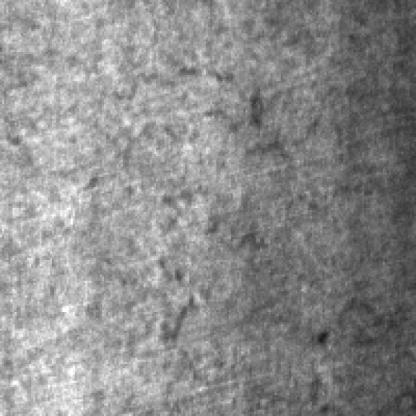crazing: (56, 61, 370, 196), (152, 212, 410, 343)
